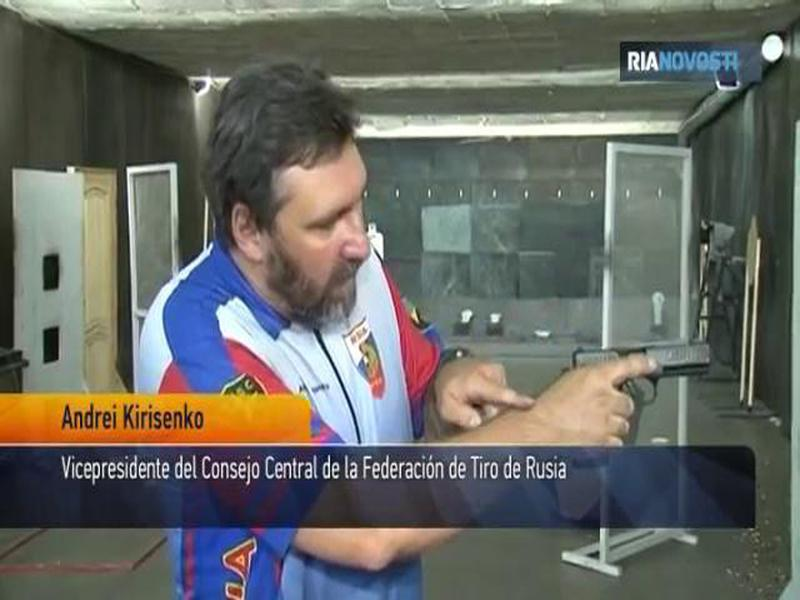Pistola: (555, 333, 722, 447)
